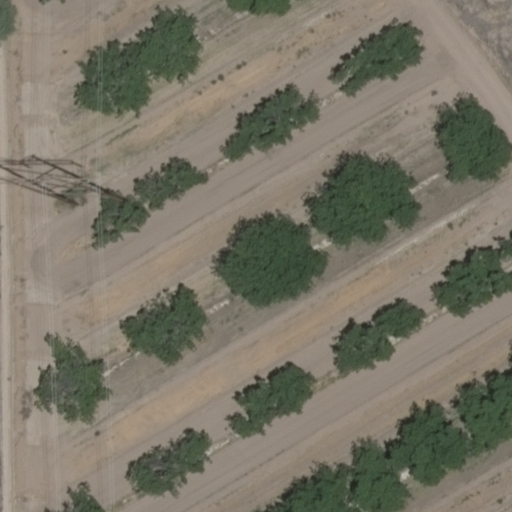TT: (1, 158, 128, 203)
